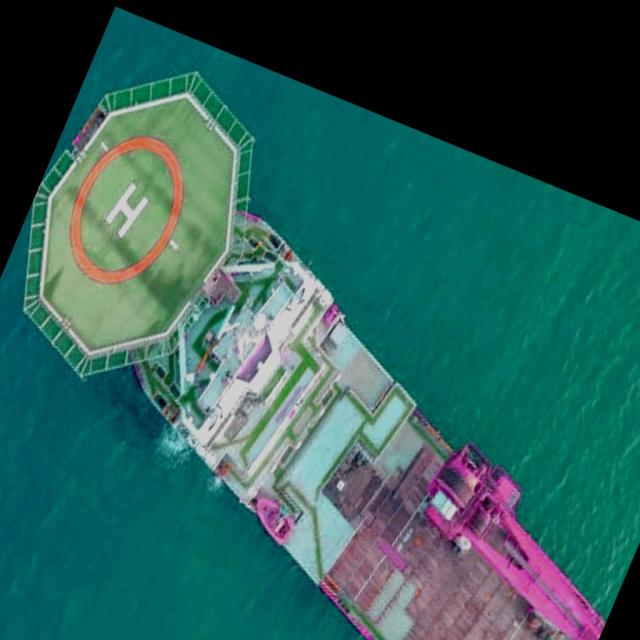helipad: (64, 132, 188, 287)
